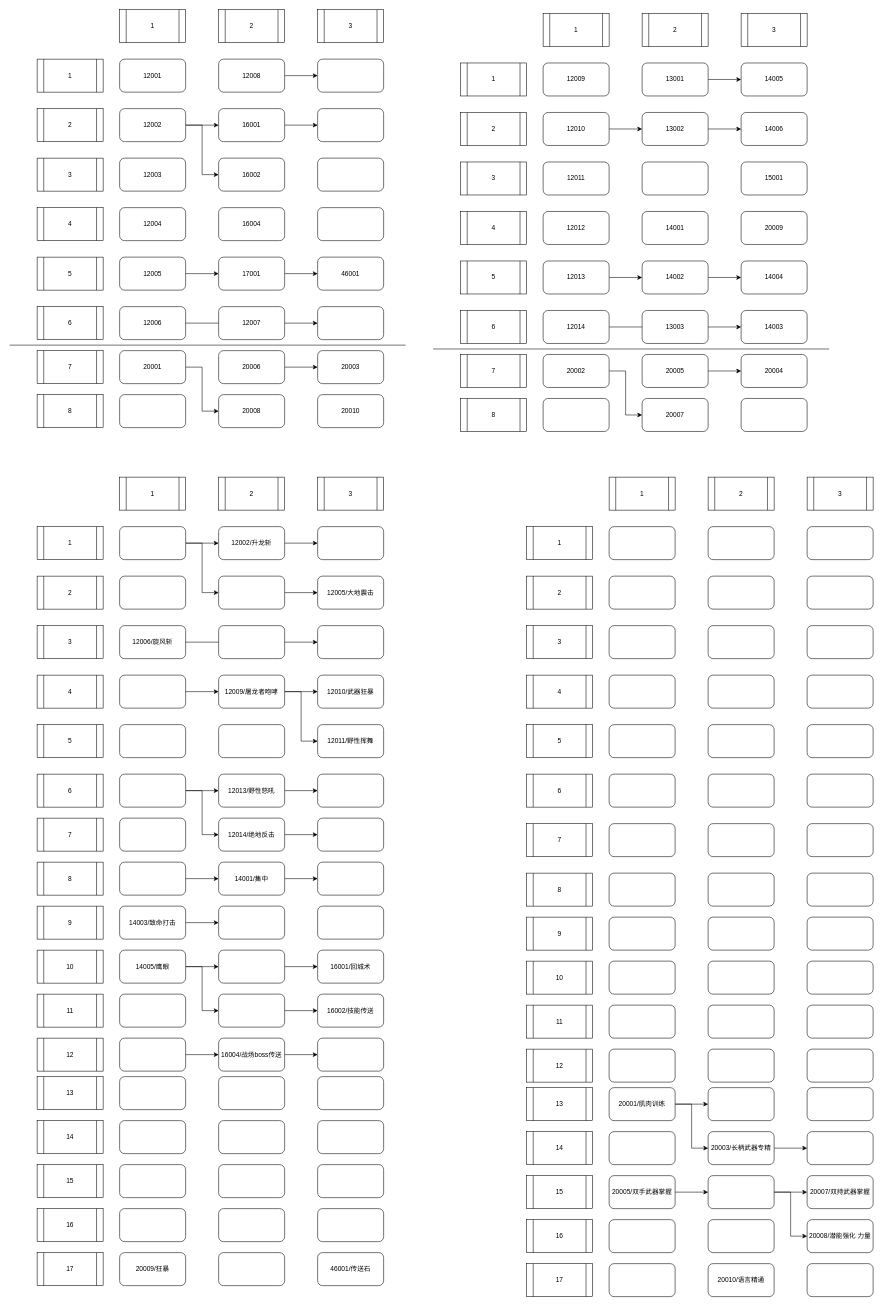
Some shapes in this 883 by 1306 pixel diagram are drawn without their labels. Each missing label, with the centre of its shape:
"12001/跳劈" goes at pixel 152 543.
"12003/肆虐风暴" goes at pixel 251 592.
"12004/双重打击" goes at pixel 350 543.
"12007/沉重打击" goes at pixel 350 642.
"12008/刺击" goes at pixel 152 691.
"12012/野性狂暴" goes at pixel 152 790.
"13001/残忍静默" goes at pixel 350 790.
"13002/地狱领主的咆哮" goes at pixel 350 834.
"13003/女王的号令" goes at pixel 152 878.
"14002/生命激活" goes at pixel 350 878.
"14004/统御" goes at pixel 251 922.
"14006/活力支配" goes at pixel 251 966.
"15001/污染蔓延" goes at pixel 251 1010.
"16003/传送门" goes at pixel 152 1054.
"17001/召唤坐骑" goes at pixel 350 1054.
"20002/双手武器专精" goes at pixel 741 1104.
"20004/双持武器专精" goes at pixel 840 1148.
"20006/长柄武器掌握" goes at pixel 741 1192.
